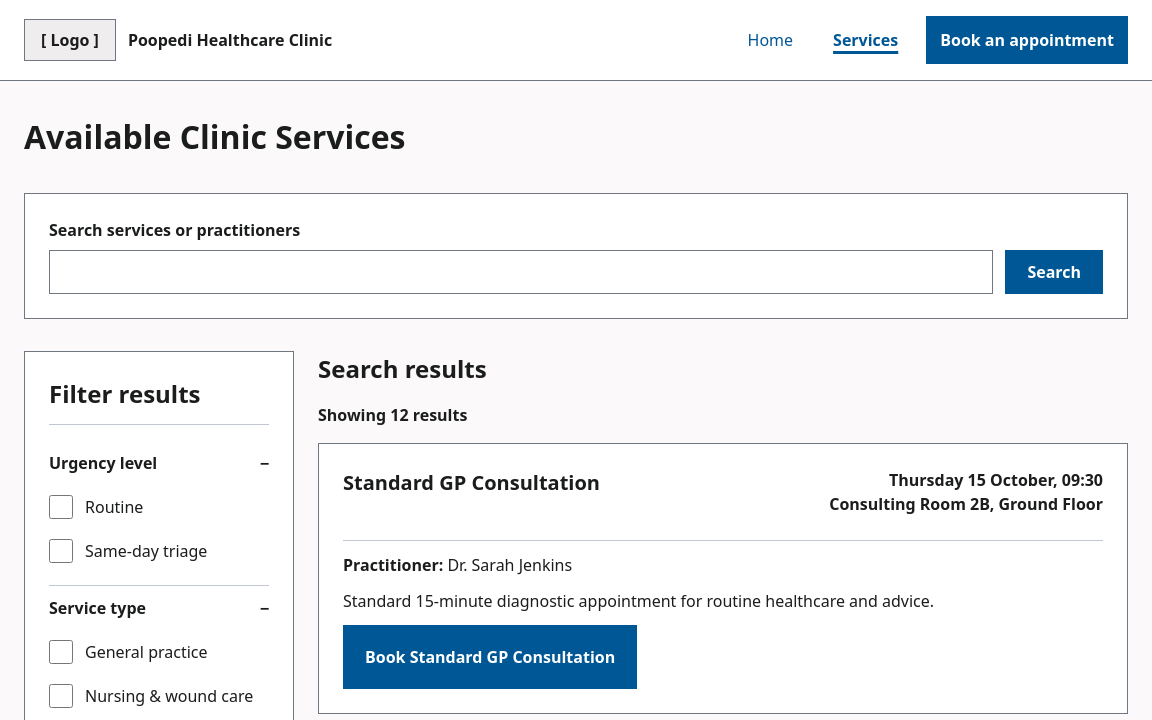
Test case: ServicesPage › searches by text
Type "asthma" into the search field labelled "Search services or practitioners".
click(521, 272); type("asthma")  # box [49,250,993,294]
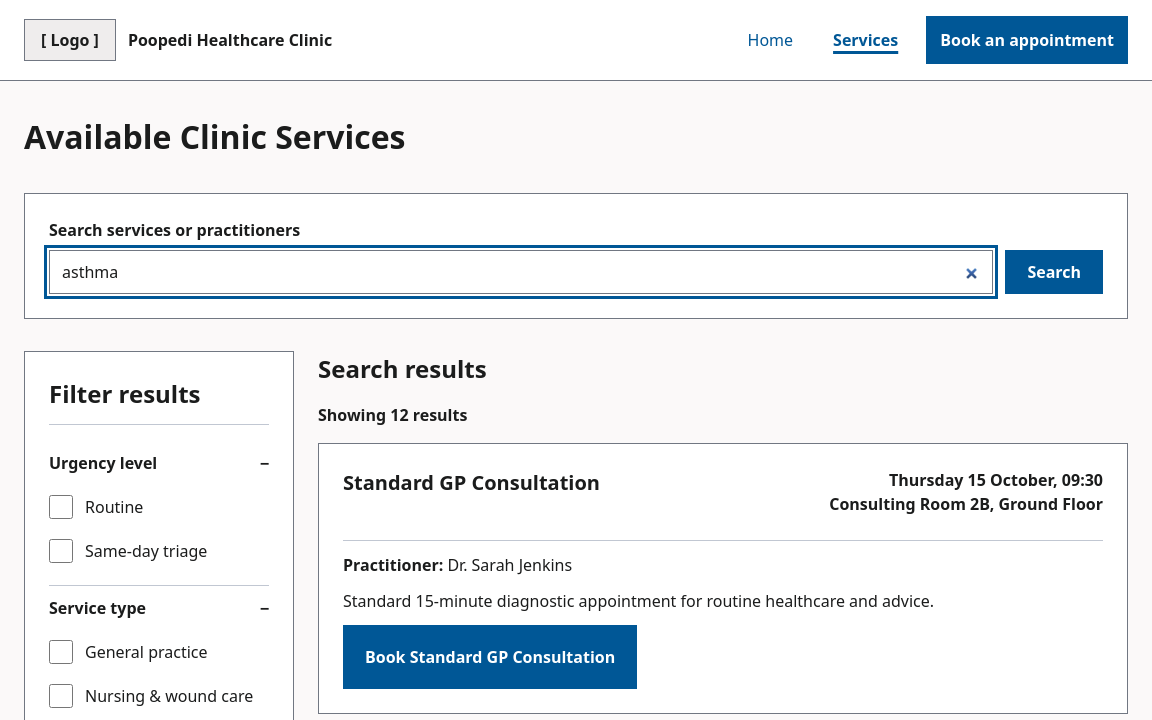
Click the button "Search".
click(1054, 272)  # box [1005,250,1103,294]
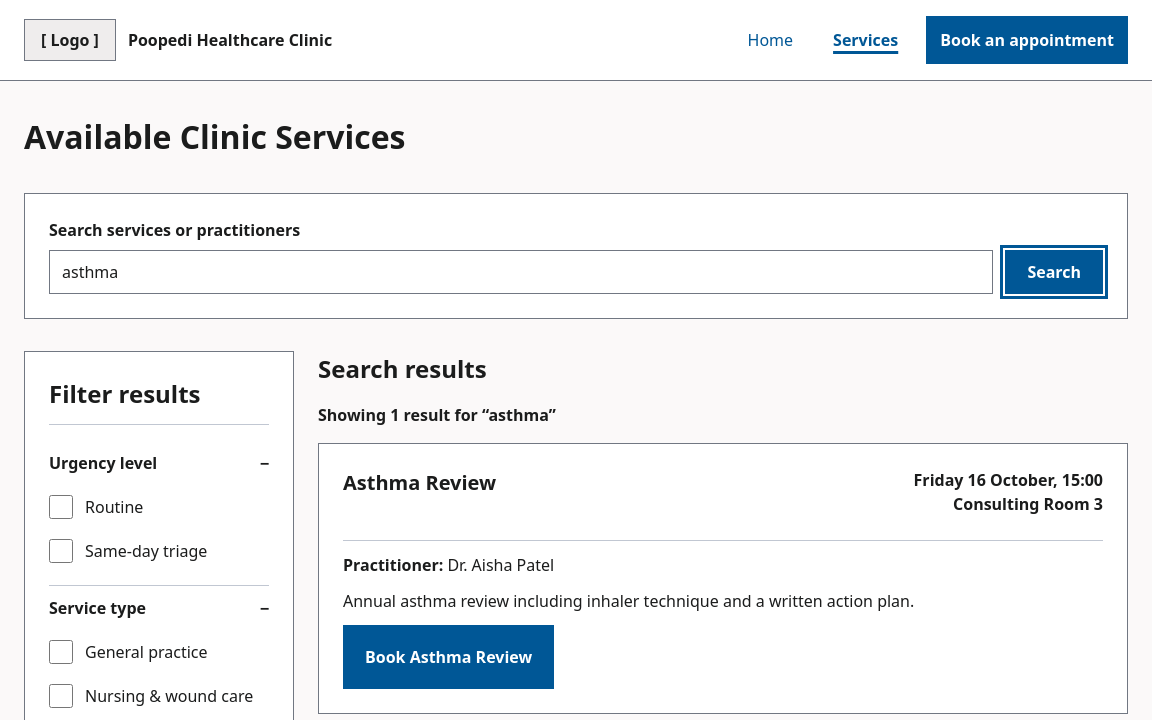
Now the text "Showing 1 result for “asthma”" is shown, box [318,404,556,426]
